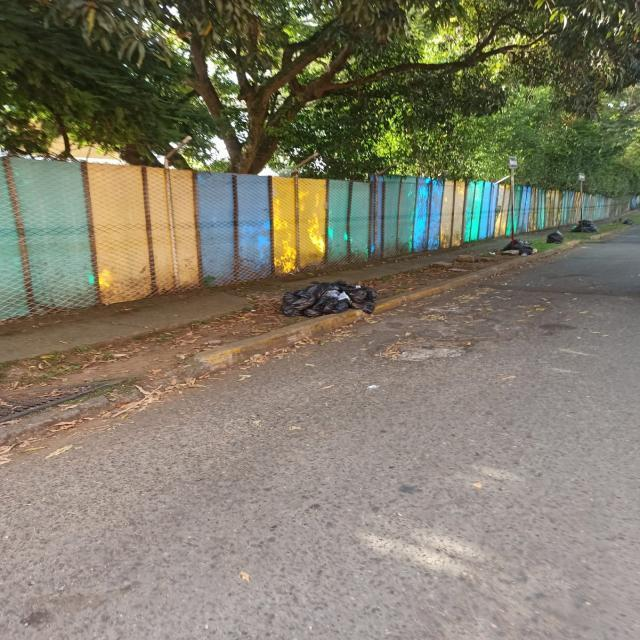Trashbag: (280, 272, 382, 320), (502, 238, 538, 260), (538, 226, 568, 246), (569, 214, 597, 235)
